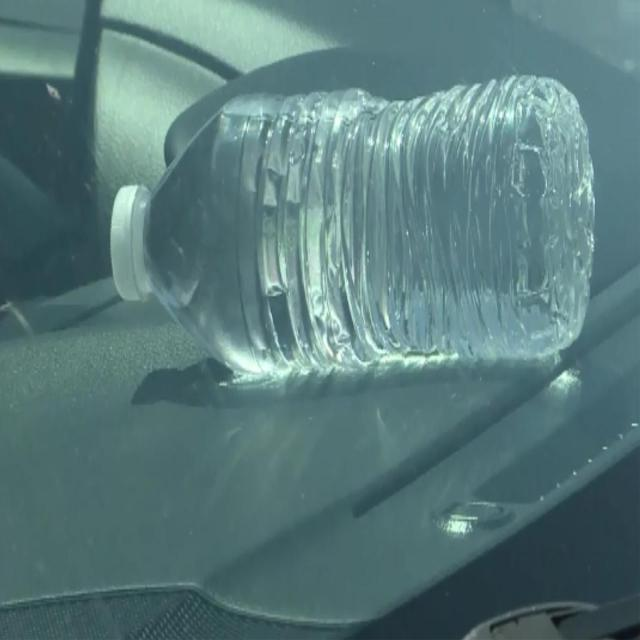plastic bottle: (108, 60, 598, 393)
